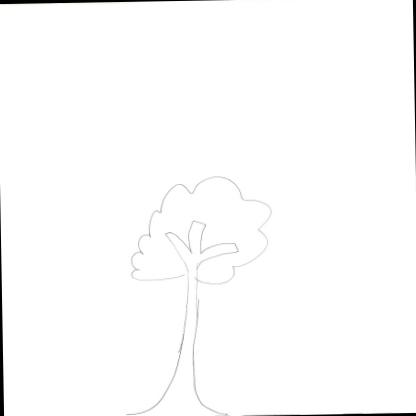branch_cut: (162, 220, 240, 266)
crown_cloud: (130, 171, 274, 286)
trunk_straight: (168, 290, 206, 382)
